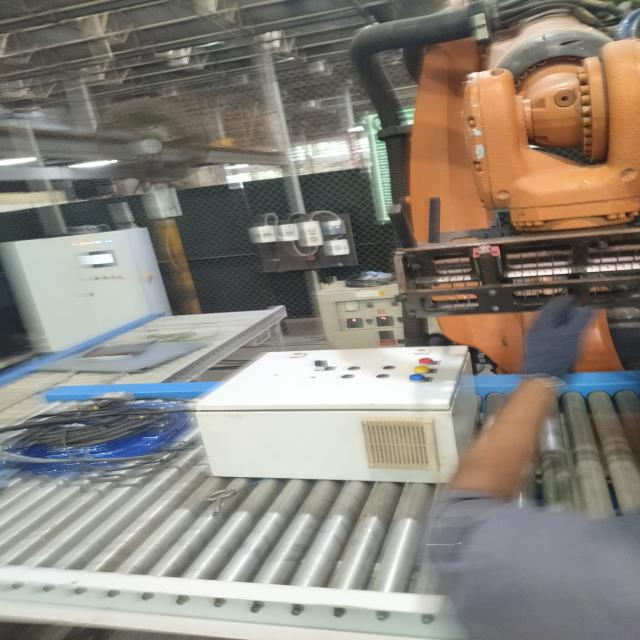Gloves-Detection: (512, 292, 588, 383)
